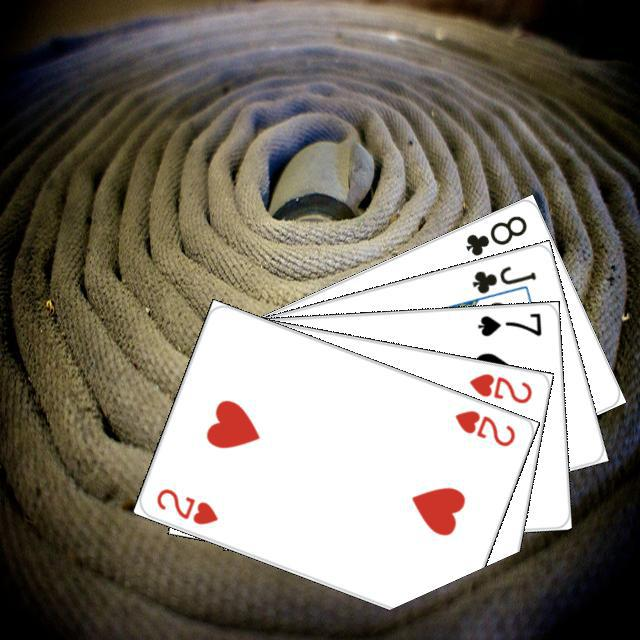2h: (151, 483, 220, 527), (450, 405, 517, 449), (464, 368, 534, 406)
7s: (472, 308, 543, 338)
8c: (460, 210, 529, 258)
Jc: (467, 261, 538, 296)
